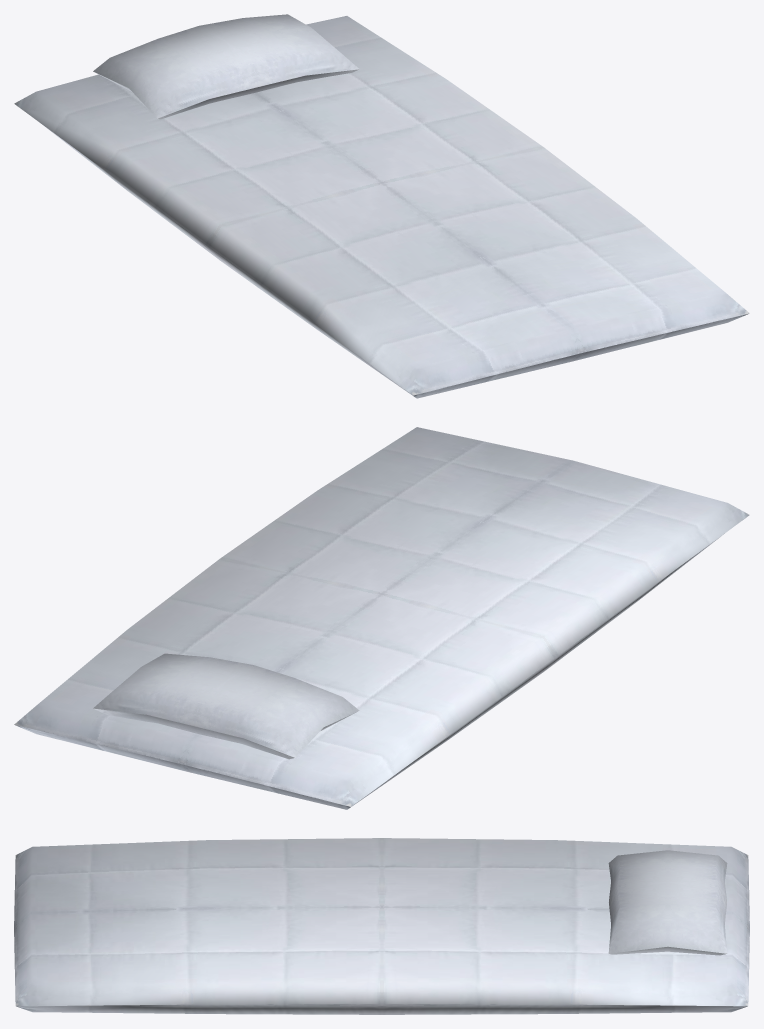
Rendered from Futon.glb.
The picture shows the model from 3 angles, top to bottom: view 1: azimuth 30°, elevation 25°; view 2: azimuth 150°, elevation 25°; view 3: azimuth 270°, elevation 25°; orthographic projection. The views are drawn at different scales.
Visible parts, largest first — view 1: futon, pillow; view 2: futon, pillow; view 3: futon, pillow.
Boxes of the visible parts, bbox=[...] form: futon: bbox=[14, 16, 749, 398]; pillow: bbox=[93, 14, 359, 119]; futon: bbox=[14, 427, 749, 809]; pillow: bbox=[93, 653, 359, 759]; futon: bbox=[14, 838, 749, 1014]; pillow: bbox=[608, 850, 727, 955].
Size of the model in its own units: 1.04 by 0.1857 by 2.06.
Materials: 1 (1 with a texture image).
